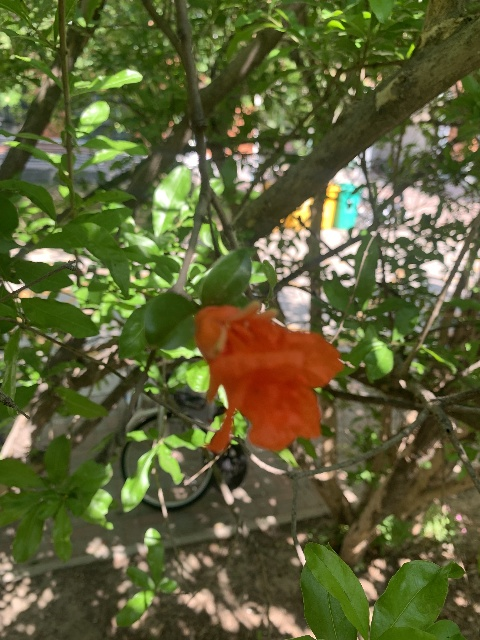flower: (195, 301, 344, 453)
